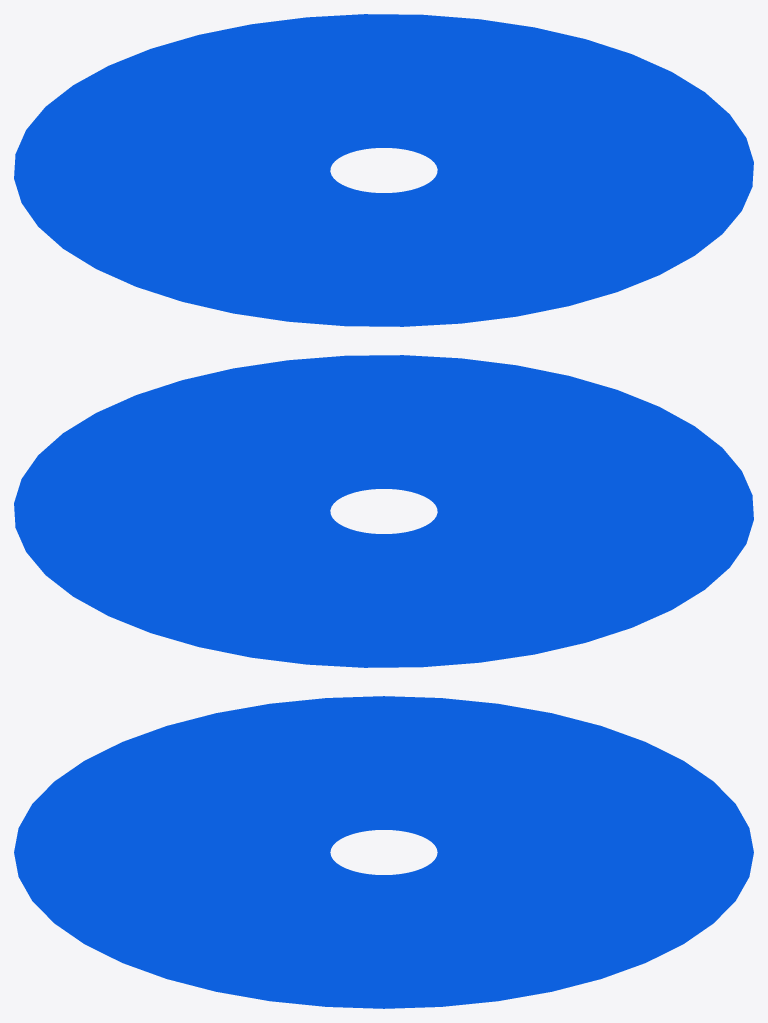
File: sea2.glb
3 renders of one model, top to bottom at view 1: azimuth 30°, elevation 25°; view 2: azimuth 150°, elevation 25°; view 3: azimuth 270°, elevation 25°, orthographic.
Parts seen in each view (by area): view 1: sea; view 2: sea; view 3: sea.
Boxes of the visible parts, left/top/right/bottom form: sea: left=14, top=14, right=753, bottom=326; sea: left=14, top=355, right=753, bottom=667; sea: left=14, top=696, right=753, bottom=1008.
Size of the model in its own units: 847 by 0.000141 by 847.
